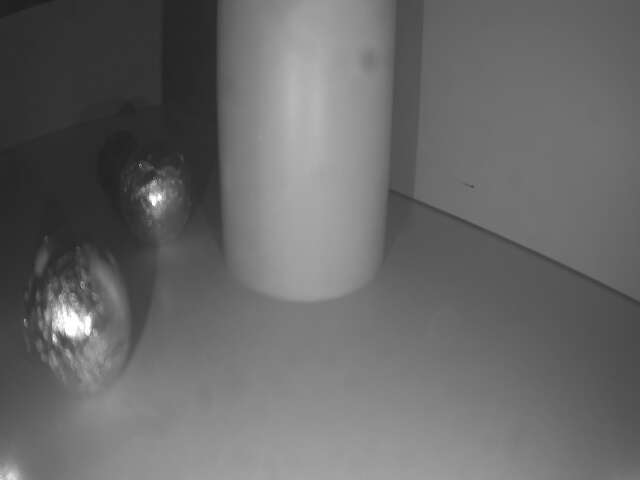Dead: (98, 130, 137, 191)
Live: (18, 233, 138, 403), (119, 149, 193, 247)
